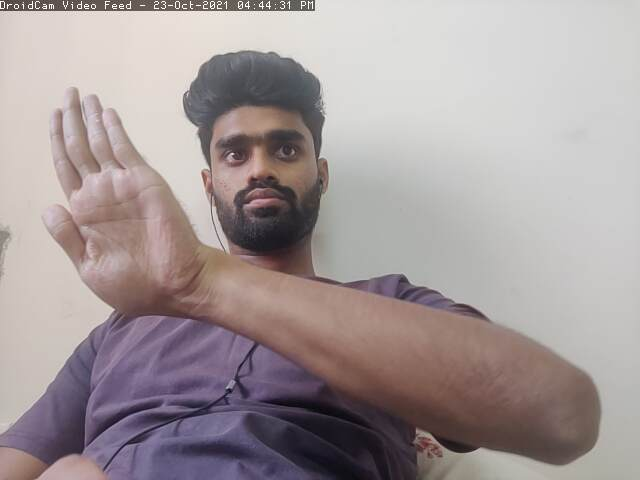Stop: (40, 82, 201, 327)
